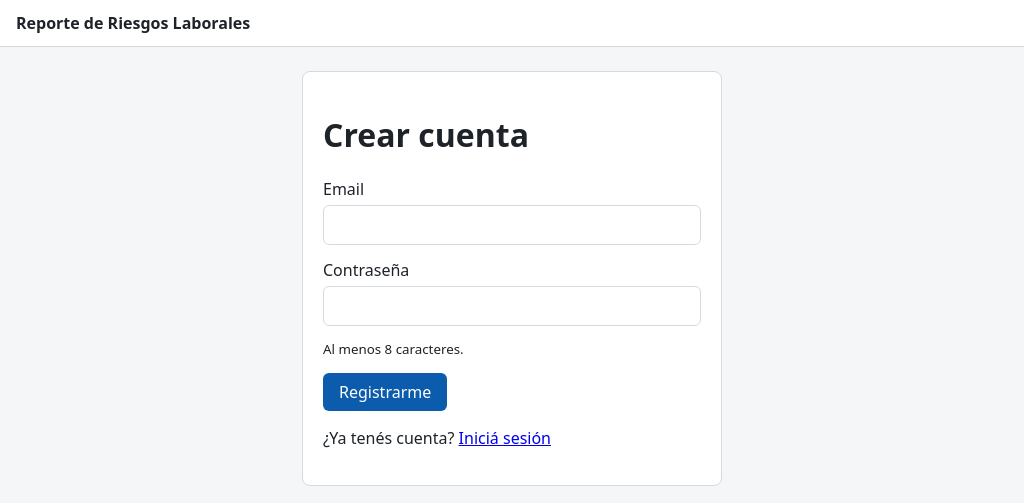
Test case: Registro › crea la cuenta e inicia sesión
Type "ana@riesgos.test" into the field labelled "Email".
click(512, 225); type("ana@riesgos.test")  # box [323,205,701,245]
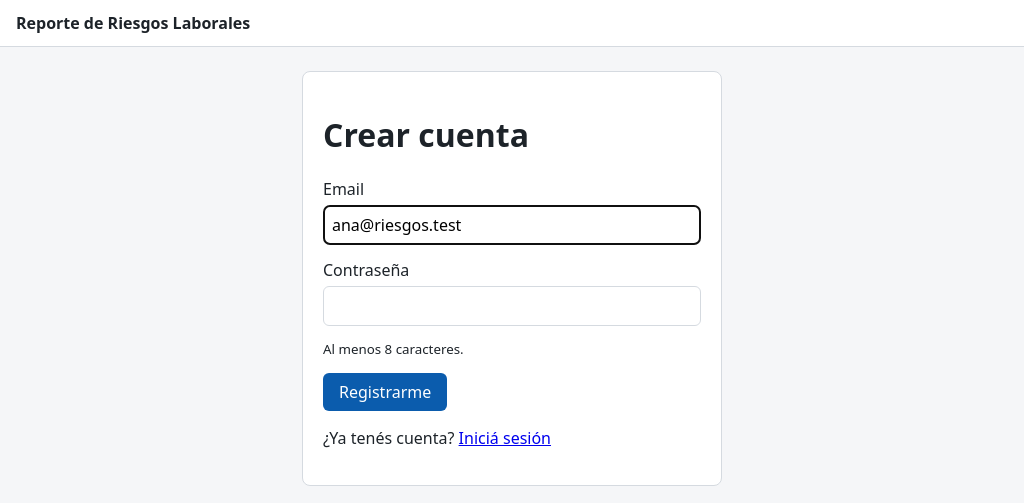
Type "Clave12345" into the password field labelled "Contraseña".
click(512, 306); type("Clave12345")  # box [323,286,701,326]
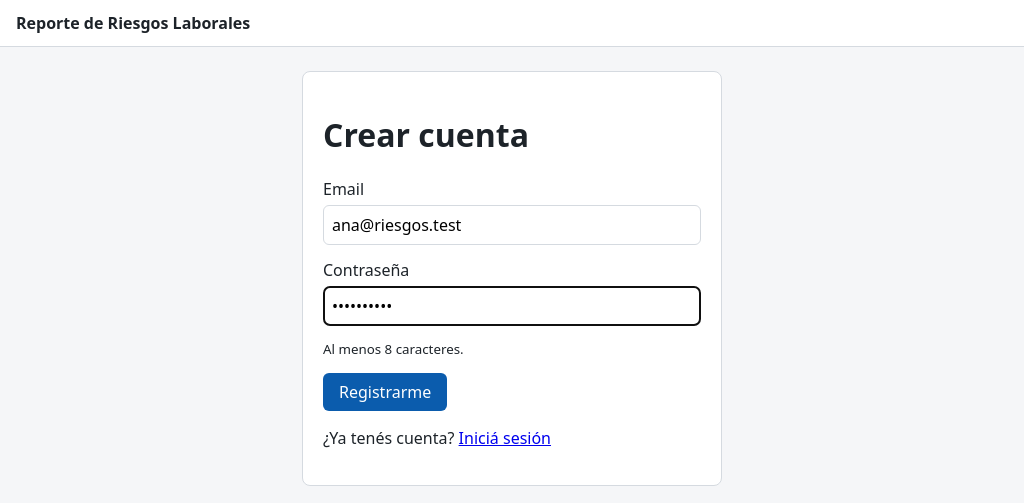
Click the button "Registrarme".
click(385, 392)  # box [323,373,447,411]
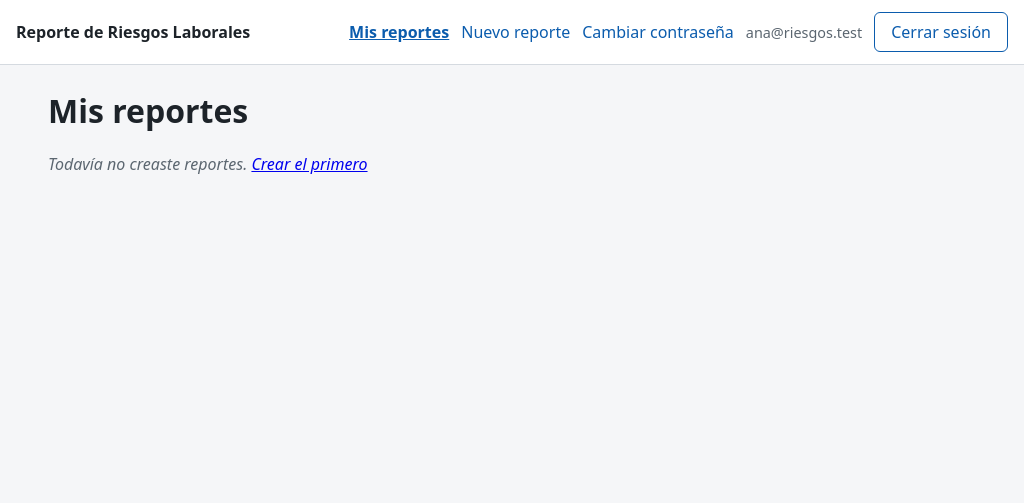
Expected: the heading "Mis reportes" is shown, [48,89,248,132]
